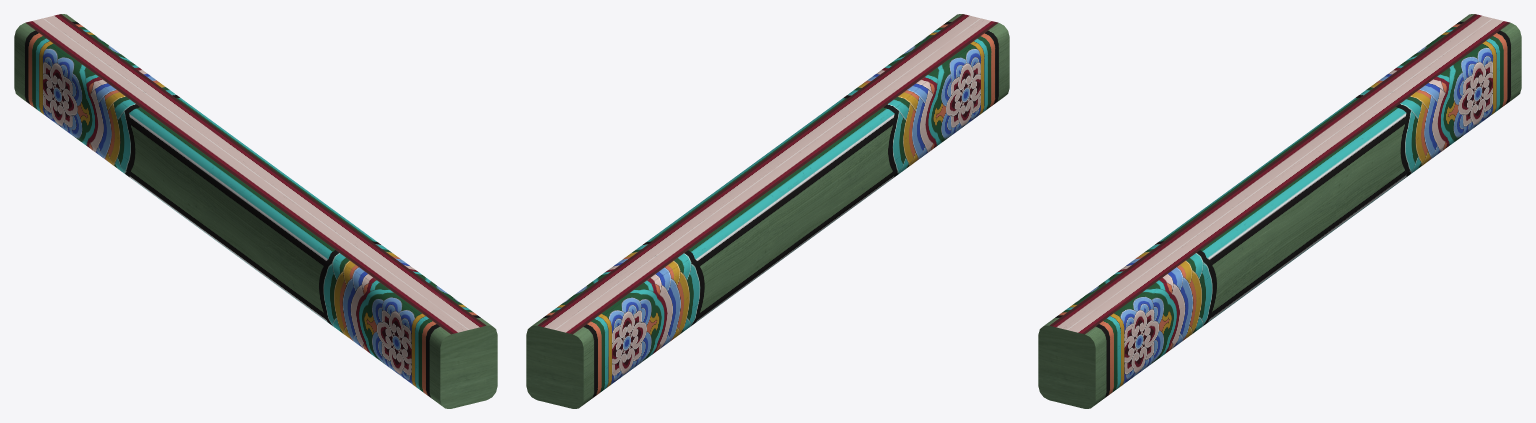
The model's file is SM_SJM_ChangBangA_01.fbx.
The picture shows the model from 3 angles, left to right: view 1: azimuth 30°, elevation 25°; view 2: azimuth 150°, elevation 25°; view 3: azimuth 330°, elevation 25°; orthographic projection.
Visible parts, largest first — view 1: SM_SJM_ChangBangA_01; view 2: SM_SJM_ChangBangA_01; view 3: SM_SJM_ChangBangA_01.
Boxes of the visible parts, bbox=[...] form: SM_SJM_ChangBangA_01: bbox=[14, 14, 497, 408]; SM_SJM_ChangBangA_01: bbox=[526, 14, 1009, 408]; SM_SJM_ChangBangA_01: bbox=[1038, 14, 1521, 408].
Bounding box in the file's own units: 26.5 × 341 × 33.
1 material, 1 textured.
